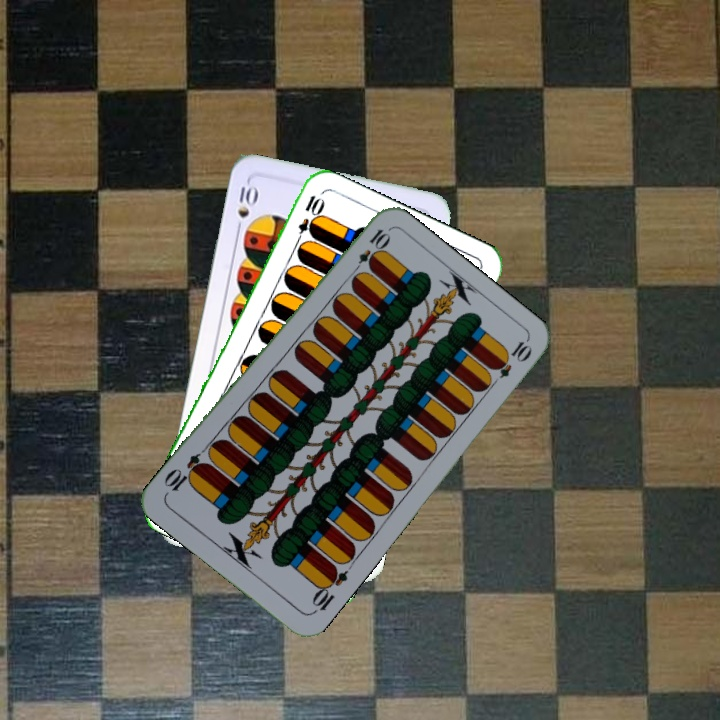E10: (307, 562, 351, 617), (348, 224, 392, 278), (291, 191, 324, 249)
S10: (232, 182, 259, 236)
